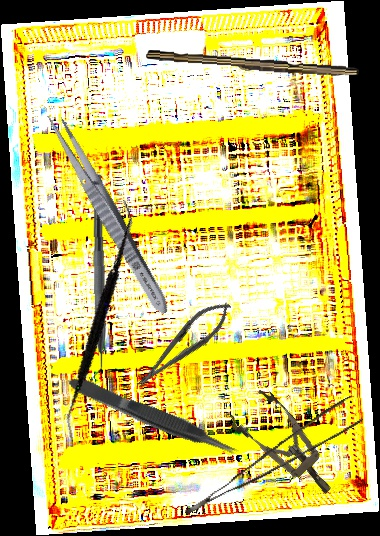Chopper: (78, 173, 110, 387)
Dressing Forceps: (40, 108, 176, 319)
Needle Holder: (127, 292, 239, 397)
Scalpel Handle: (145, 49, 360, 81)
Spatula Surgical: (10, 199, 186, 439)
Speculum: (225, 384, 347, 510)
Tissue Forceps: (170, 395, 368, 515), (64, 369, 244, 465)
